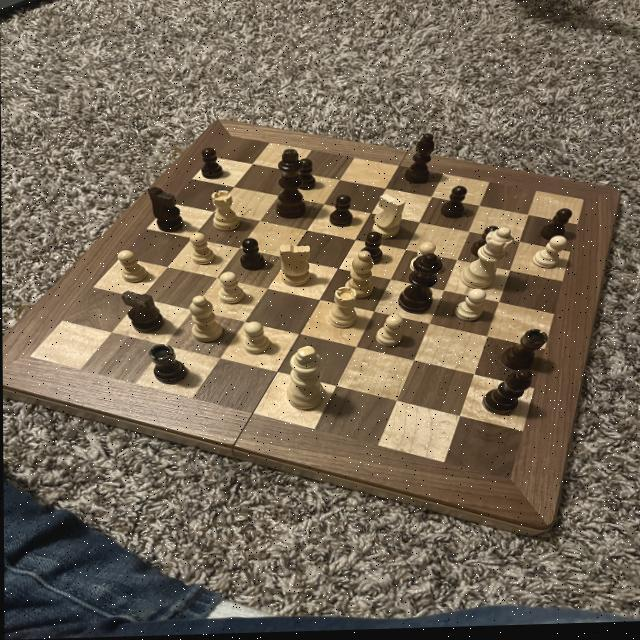bishop: (476, 369, 536, 422), (400, 133, 441, 188)
black-bishop: (272, 148, 313, 223)
black-king: (118, 290, 168, 336), (147, 185, 191, 236)
black-knight: (538, 210, 577, 248), (437, 186, 473, 224), (326, 195, 359, 233), (469, 228, 503, 261), (197, 146, 228, 182), (357, 234, 388, 269), (237, 239, 267, 274), (295, 157, 317, 192)
black-pawn: (397, 253, 445, 319)
black-queen: (499, 329, 552, 375), (145, 342, 192, 390)
black-rook: (185, 294, 229, 347), (368, 194, 409, 243), (342, 251, 378, 304), (277, 245, 316, 289)
white-bishop: (282, 347, 327, 416)
white-knight: (114, 248, 152, 286), (530, 238, 570, 274), (453, 288, 490, 325), (240, 320, 275, 358), (373, 315, 409, 351), (218, 271, 250, 309), (187, 231, 219, 267), (408, 242, 438, 275)
white-pawn: (457, 229, 520, 293)
white-queen: (209, 189, 247, 234), (327, 287, 361, 332)
